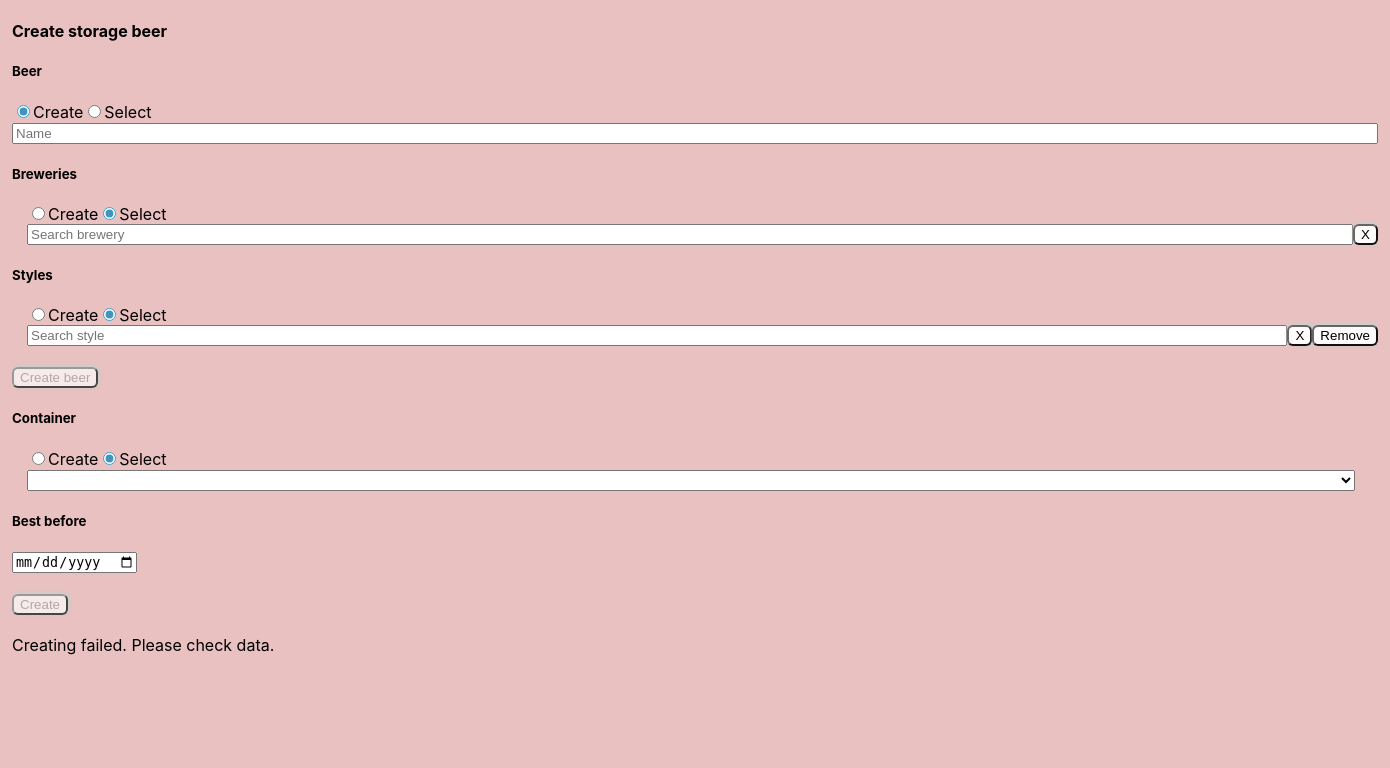
clears container
Select "bottle 0.33" in the dropdown named "Container" at [691, 480], box [27, 470, 1355, 491]
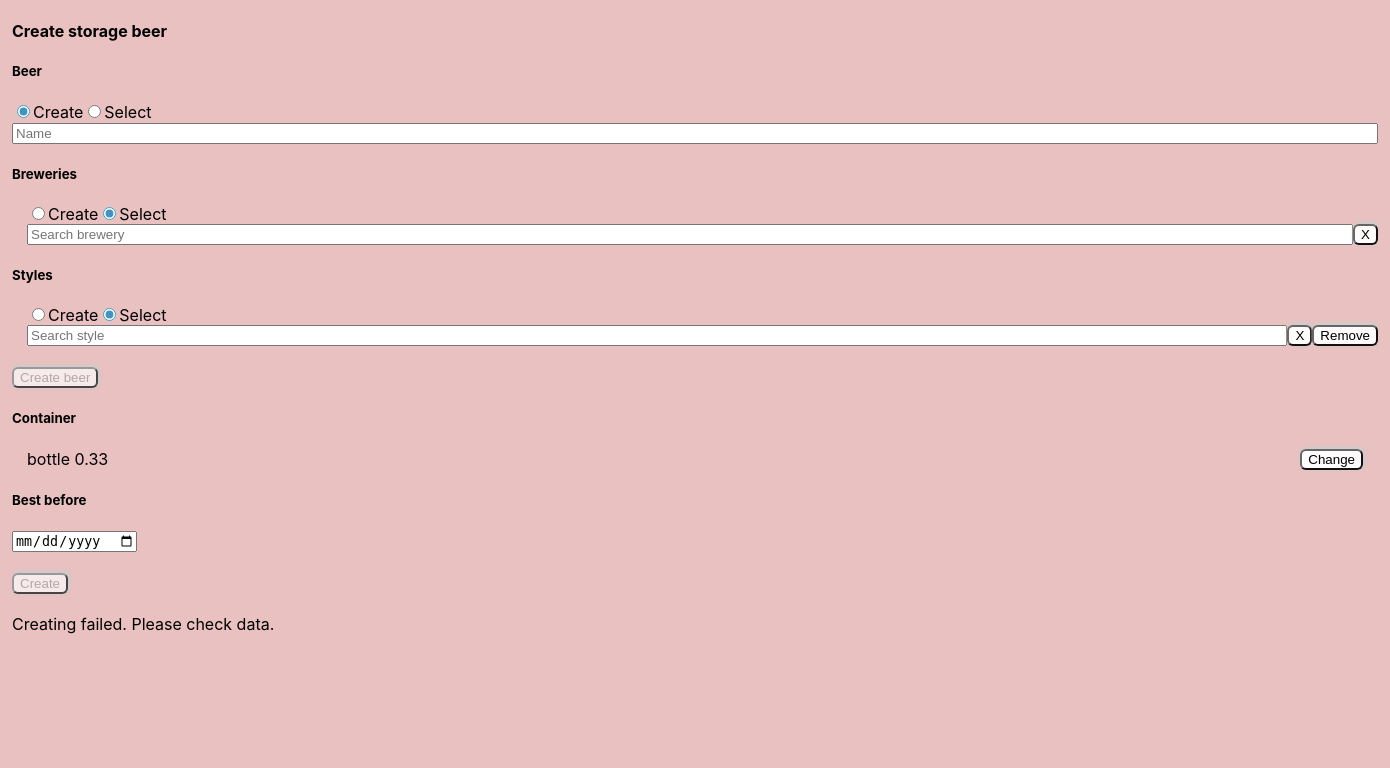
Click the button "Change" at [1332, 459], box [1300, 449, 1363, 470]
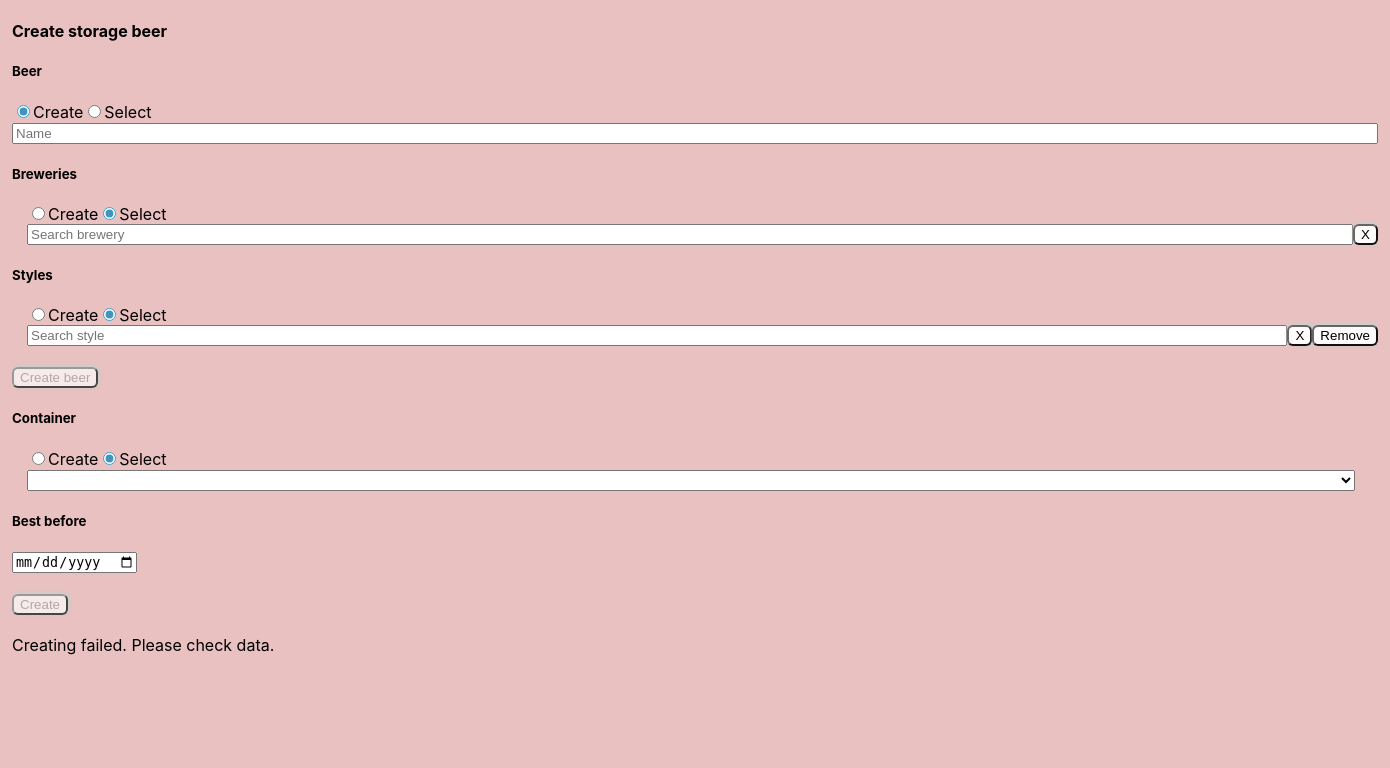
Expected: the dropdown named "Container" is shown, [27, 470, 1355, 491]
